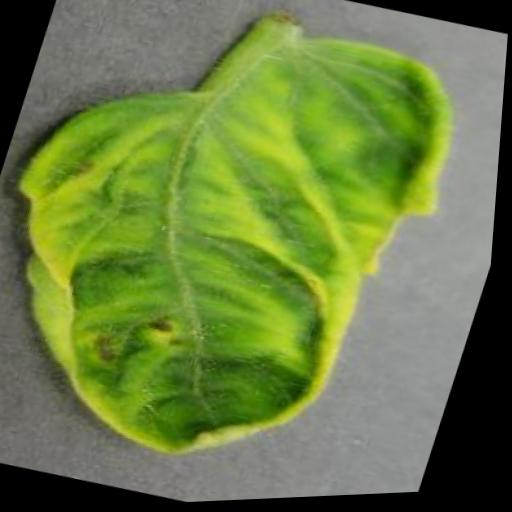Yellow Leaf Curl Virus: (0, 0, 489, 510)
